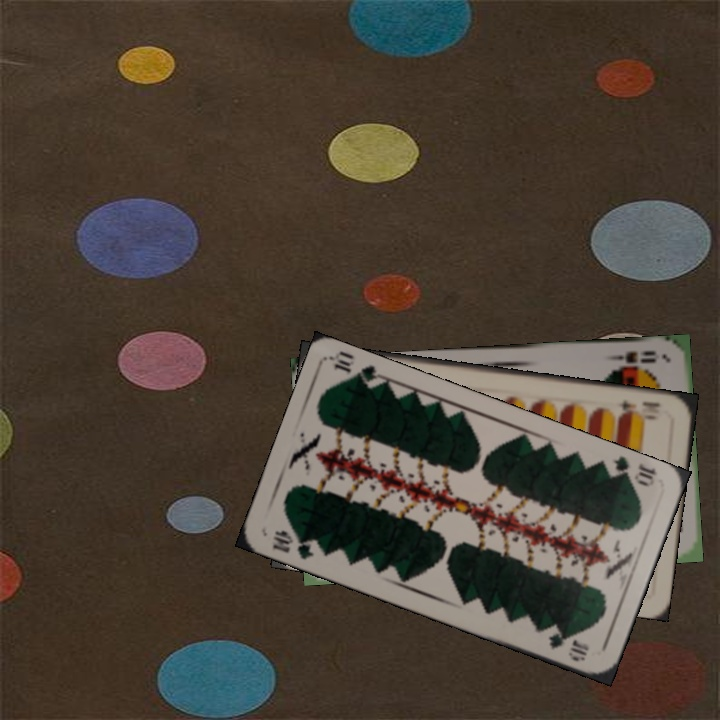E10: (611, 396, 663, 419)
G10: (601, 453, 660, 490), (268, 526, 317, 562)
SO: (605, 346, 659, 366)
